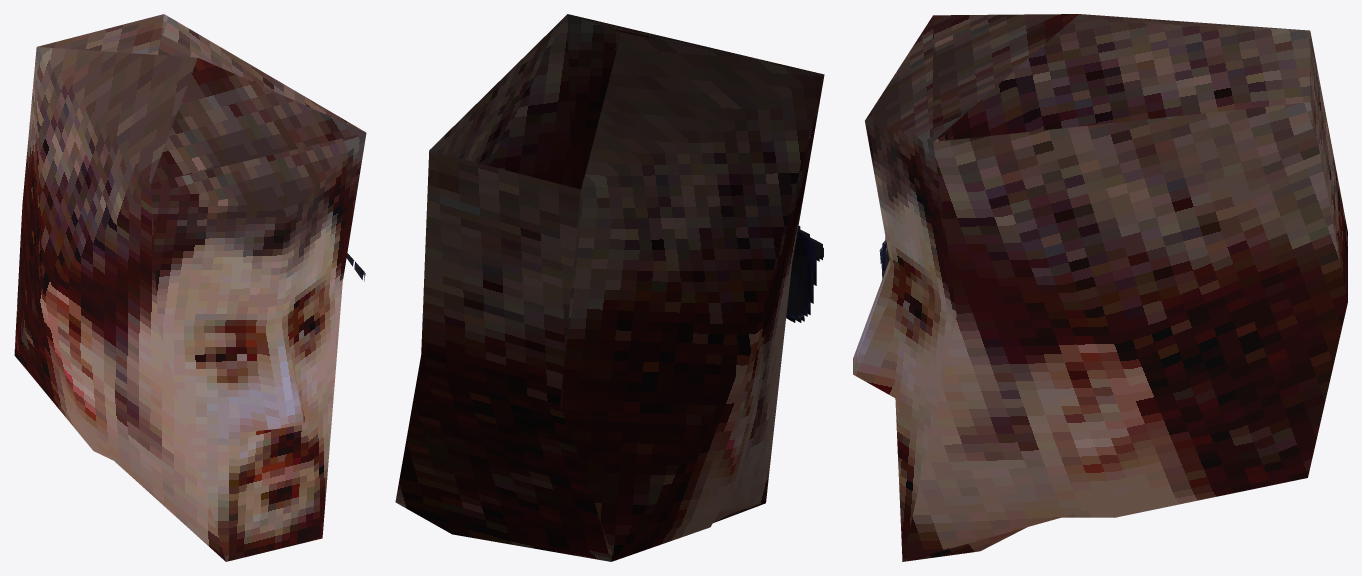
The model's file is CheaddaveZ.obj.
3 renders of one model, left to right at view 1: azimuth 30°, elevation 25°; view 2: azimuth 150°, elevation 25°; view 3: azimuth 270°, elevation 25°, orthographic. The views are drawn at different scales.
Size of the model in its own units: 154 by 252 by 210.
7 materials, 7 textured.
